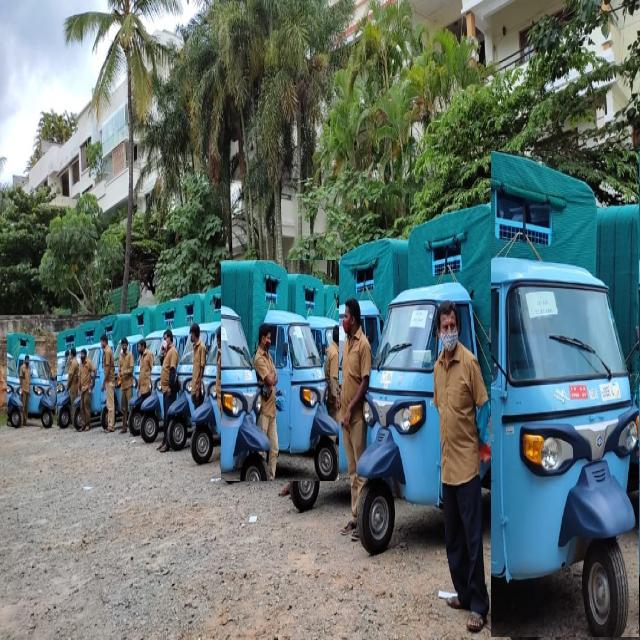autorickshaw: (491, 152, 640, 637), (359, 206, 534, 553), (291, 239, 408, 509), (221, 260, 339, 481), (8, 332, 57, 427), (42, 329, 75, 427)
